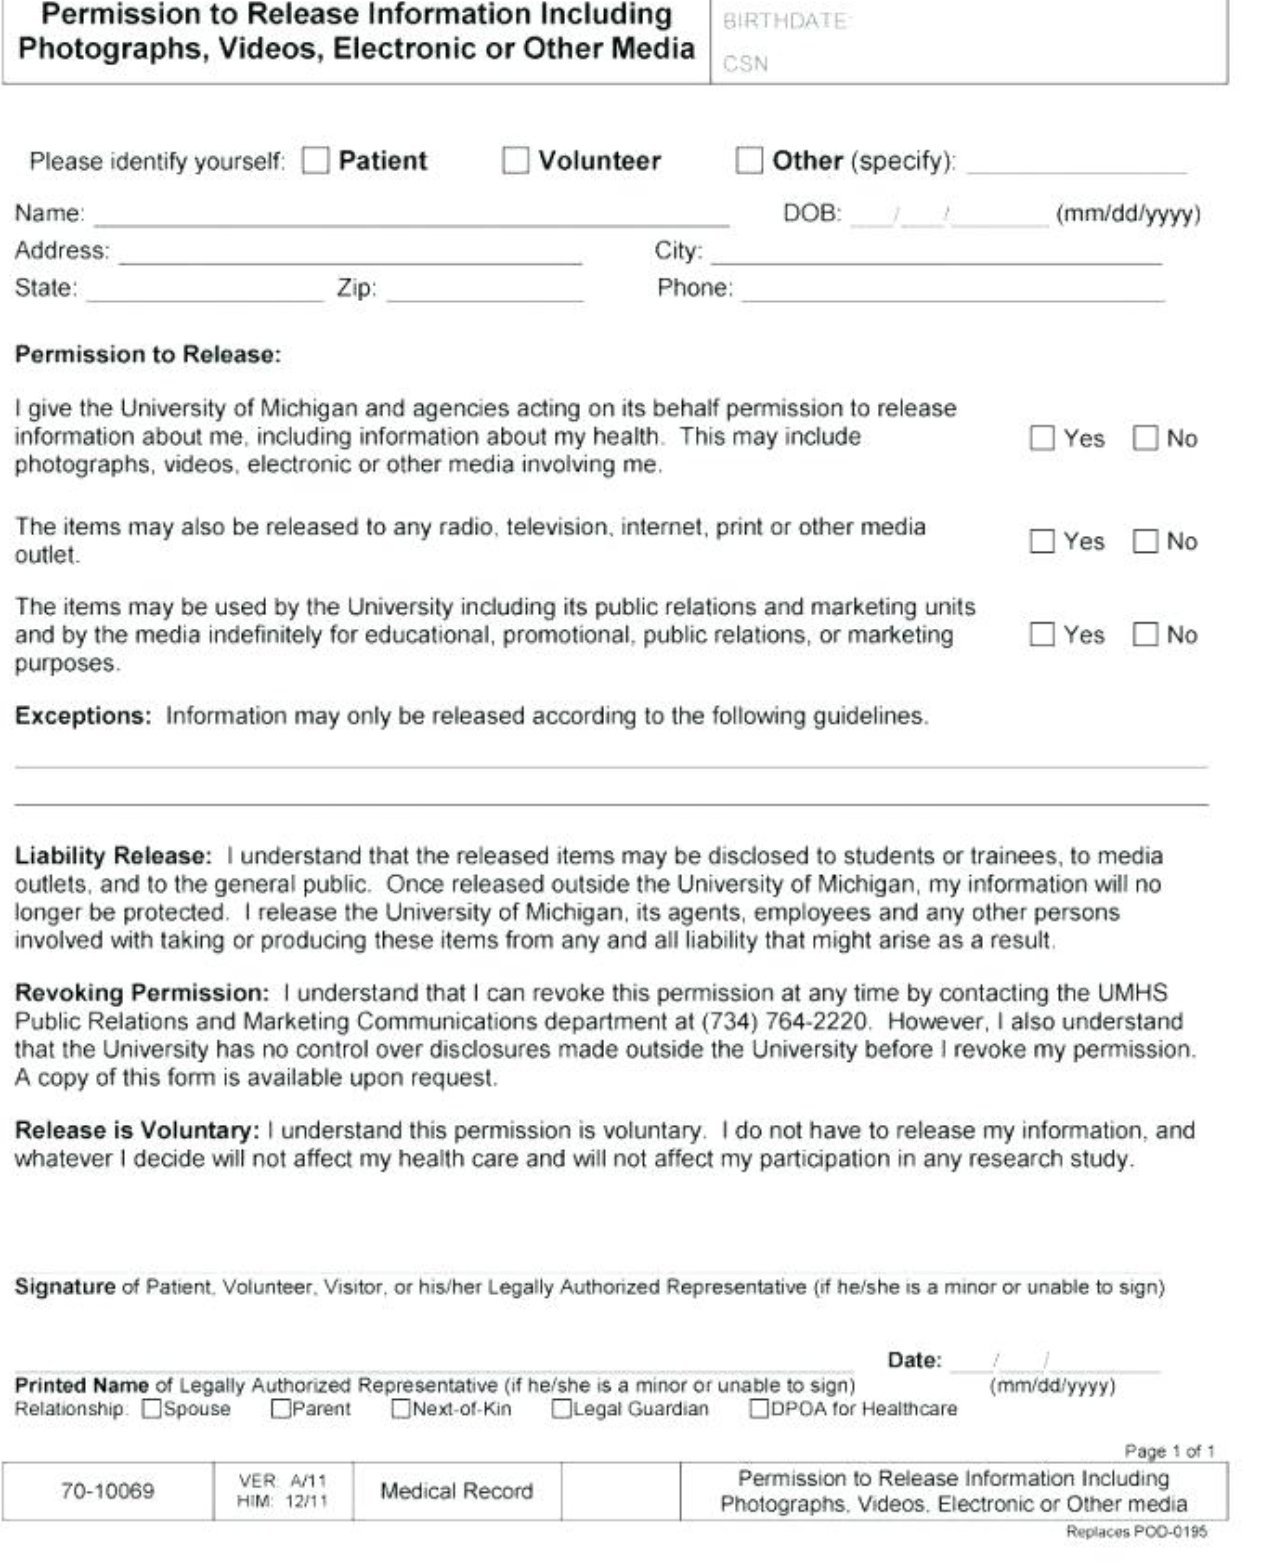checkbox: (1127, 420, 1172, 463), (728, 141, 771, 180), (295, 140, 340, 178), (1022, 613, 1064, 652), (1121, 618, 1165, 654), (499, 141, 538, 181), (1026, 421, 1067, 459), (1129, 521, 1162, 559), (1028, 525, 1060, 557), (544, 1392, 574, 1425), (386, 1394, 416, 1428), (741, 1394, 772, 1423), (264, 1394, 295, 1422), (133, 1394, 166, 1420)
textbox: (559, 1458, 687, 1530)
textline: (5, 741, 1218, 784), (4, 784, 1218, 824), (12, 1245, 1170, 1284), (3, 1339, 862, 1378), (91, 206, 737, 236), (117, 245, 595, 277), (739, 282, 1174, 316), (706, 246, 1168, 273), (87, 280, 332, 315), (959, 156, 1200, 185), (378, 285, 599, 315)
